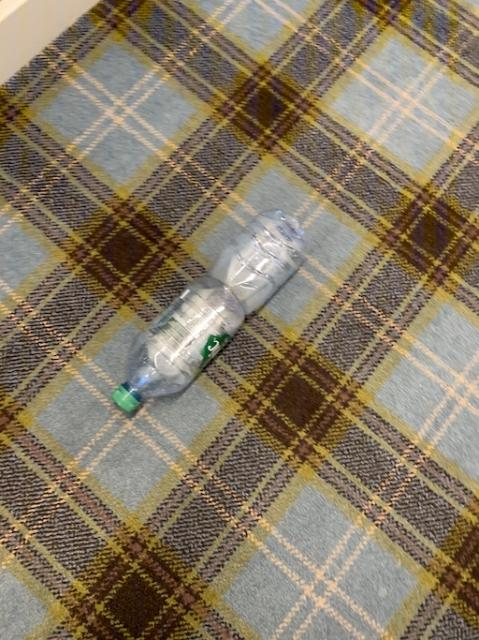plastic: (112, 209, 303, 410)
